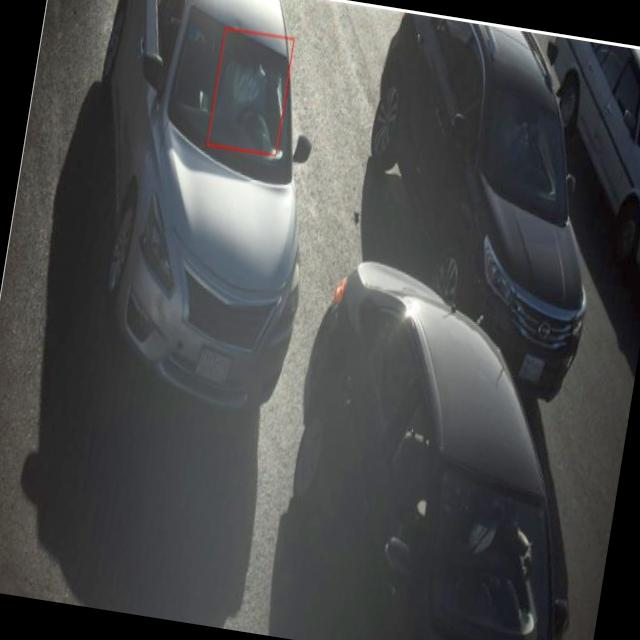person_without_seatbelt: (211, 33, 288, 156)
